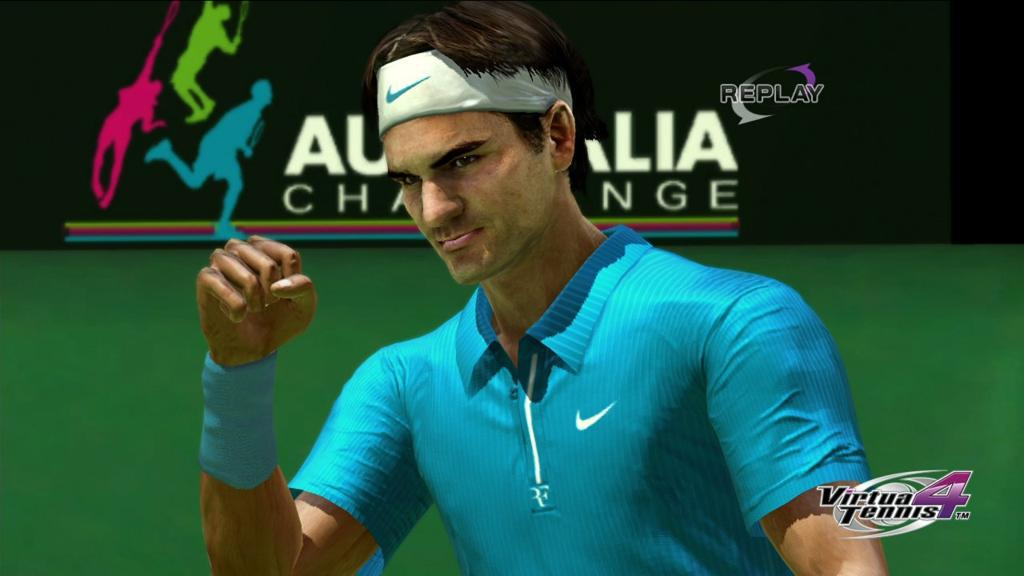face: (381, 111, 545, 279)
